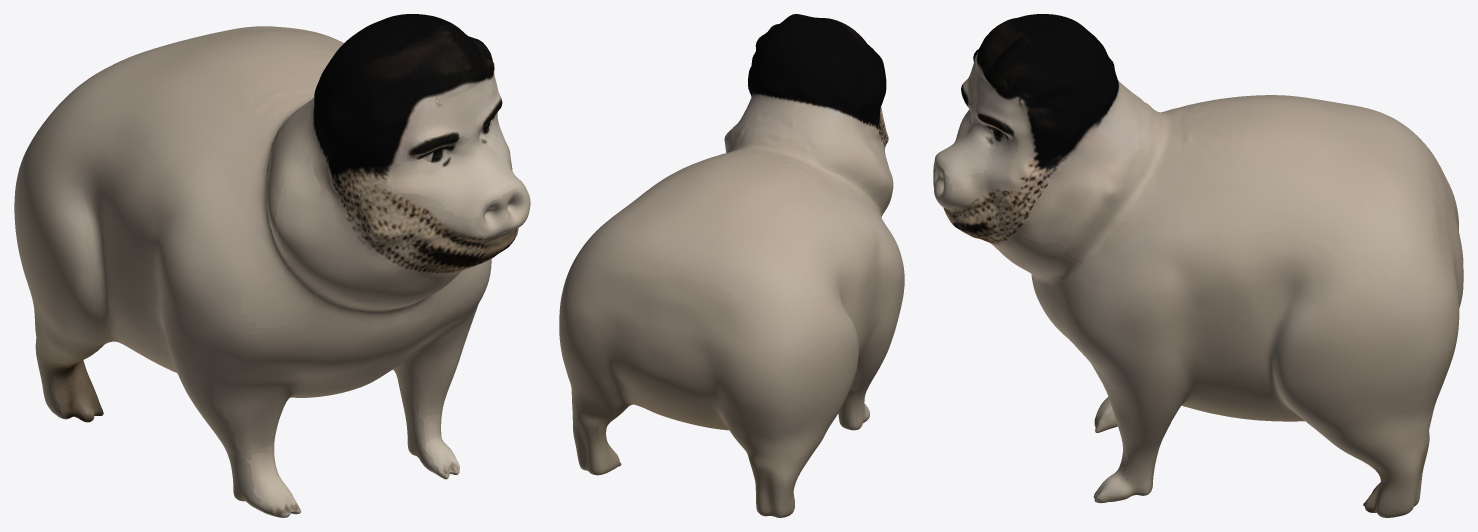
3 renders of one model, left to right at view 1: azimuth 30°, elevation 25°; view 2: azimuth 150°, elevation 25°; view 3: azimuth 270°, elevation 25°, orthographic. The views are drawn at different scales.
Visible parts, largest first — view 1: tmpr1wsinc1.ply; view 2: tmpr1wsinc1.ply; view 3: tmpr1wsinc1.ply.
Part boxes in pixels (bbox=[...]): tmpr1wsinc1.ply: bbox=[14, 14, 530, 517]; tmpr1wsinc1.ply: bbox=[559, 14, 904, 517]; tmpr1wsinc1.ply: bbox=[933, 14, 1463, 517].
Bounding box in the file's own units: 1.43 × 1.82 × 1.96.
1 material, 1 textured.
